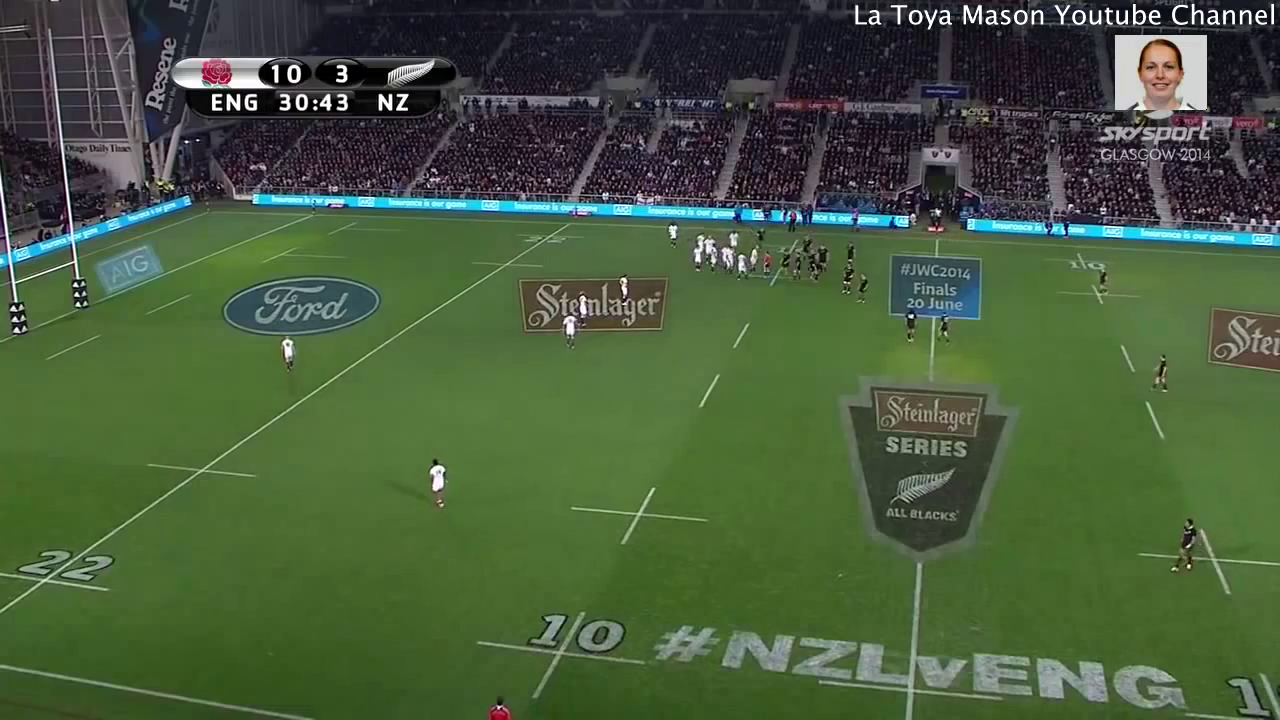player: (1170, 512, 1196, 580), (425, 455, 451, 510), (277, 332, 302, 375), (1149, 351, 1171, 397), (934, 308, 956, 347), (559, 311, 578, 353), (903, 308, 924, 343), (1095, 260, 1111, 300), (577, 293, 592, 330), (805, 252, 822, 284), (838, 262, 855, 294), (856, 272, 872, 304), (815, 243, 832, 273), (735, 250, 750, 283), (690, 244, 705, 275), (618, 274, 632, 305), (791, 251, 803, 281), (760, 249, 772, 278), (666, 221, 678, 249), (779, 248, 791, 276), (747, 246, 759, 273), (842, 240, 856, 260), (718, 244, 729, 268), (727, 247, 737, 273), (799, 232, 812, 252), (695, 231, 706, 254), (709, 245, 718, 271), (755, 224, 764, 248), (702, 235, 717, 247), (729, 230, 738, 249)
post: (1, 127, 88, 341)
